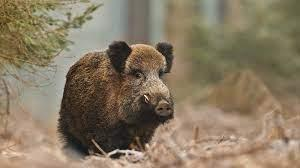wildboar: (56, 38, 177, 161)
